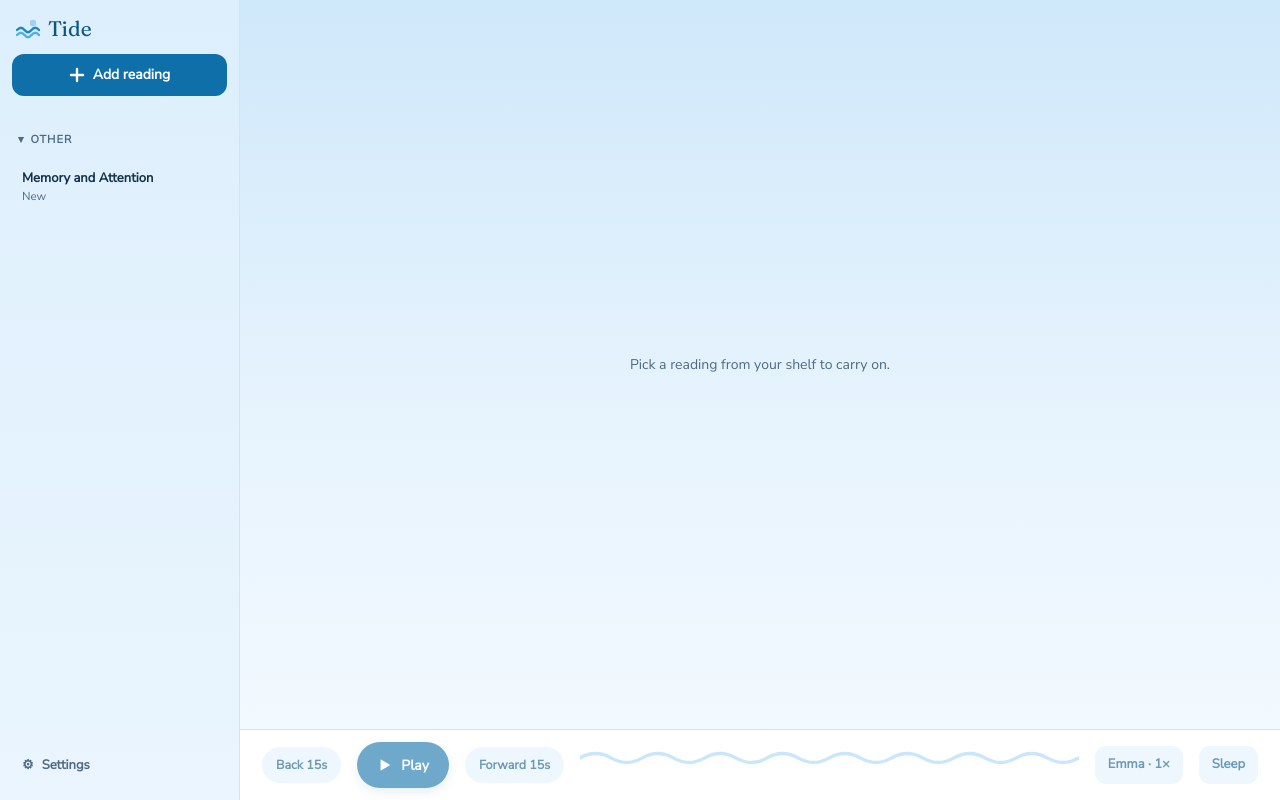
Scenario: Kitty Mochi peeking › never appears under sky-sea
Click the button "Memory and Attention New". click: (120, 187)
box: [12,162,227,212]
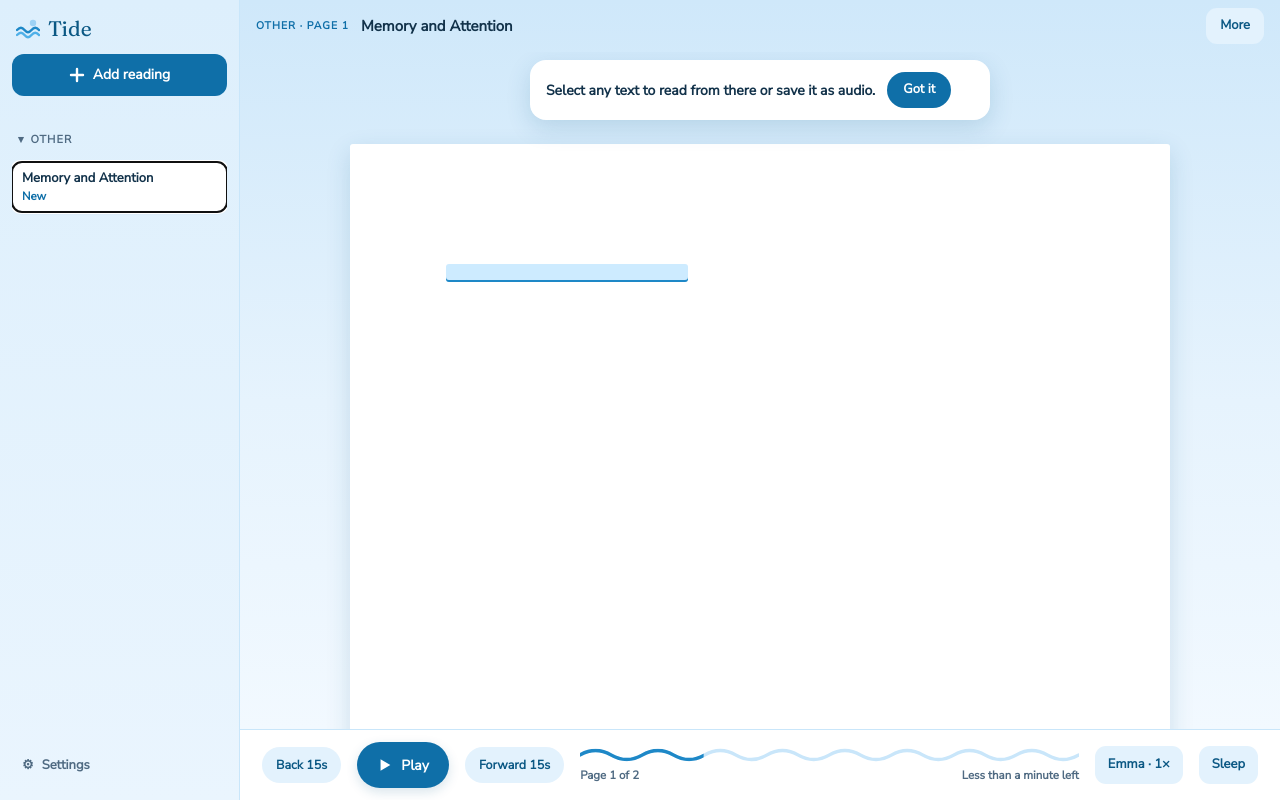
expect the element with test id "sentence-highlight" is shown: met, box [446,264,688,282]
Click the button "Play". click: (403, 765)
box: [357,742,449,788]
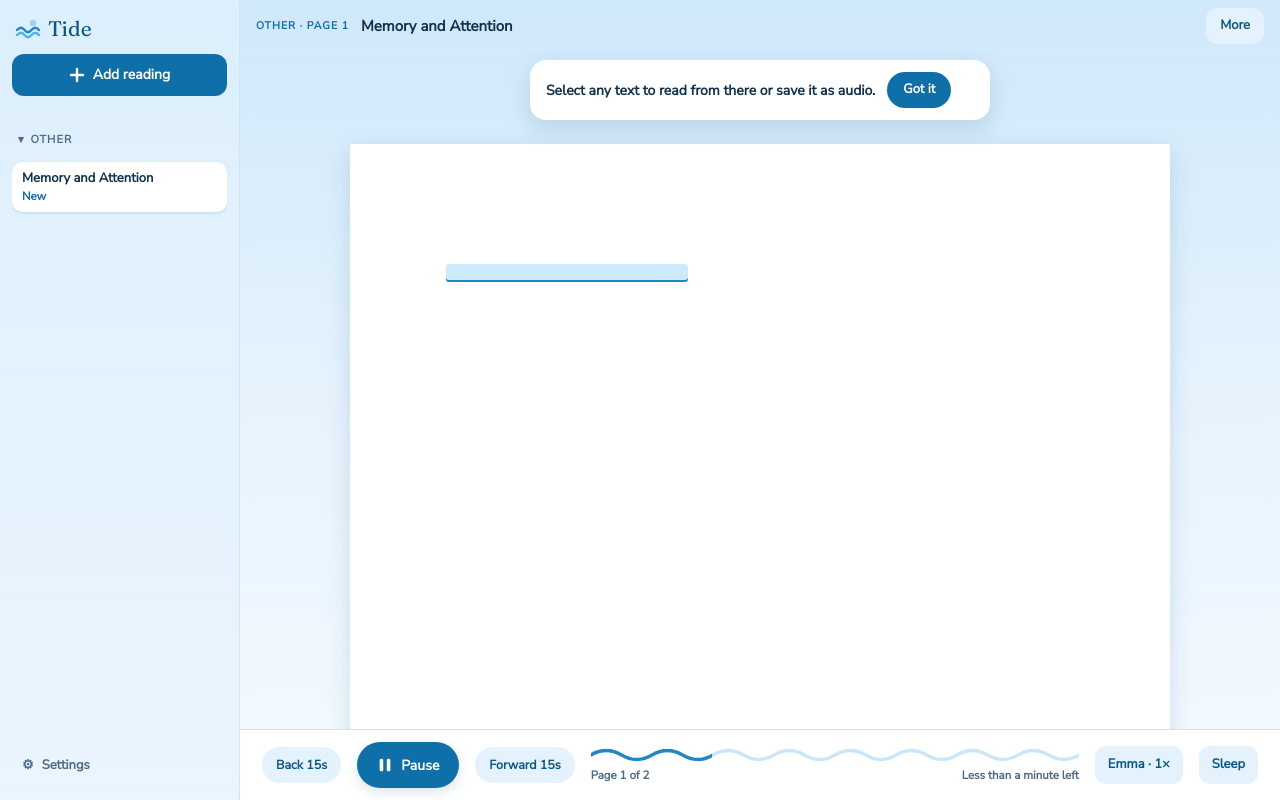
expect the button "Pause" is shown: met, box [357,742,459,788]
